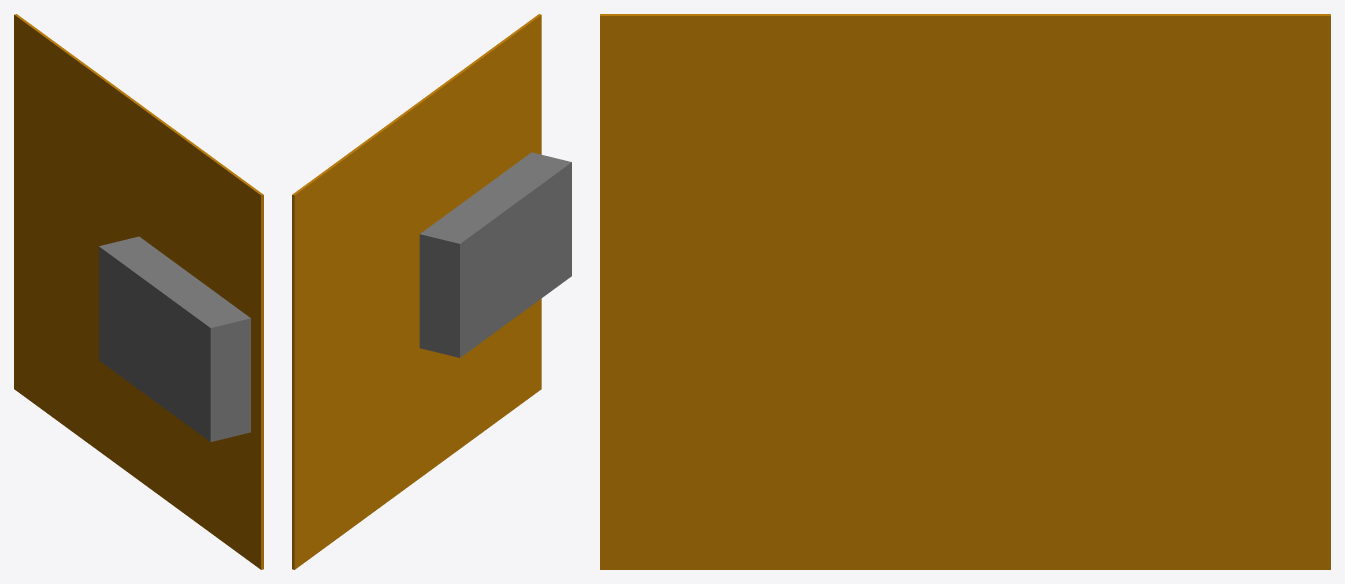
The model's file is DRC-TESTBED-LEVER-BODYSET9_link_mesh.dae.
The picture shows the model from 3 angles, left to right: view 1: azimuth 30°, elevation 25°; view 2: azimuth 150°, elevation 25°; view 3: azimuth 270°, elevation 25°; orthographic projection. The views are drawn at different scales.
Parts seen in each view (by area): view 1: DRC-TESTBED-LEVER-BODYSET9_link (×2); view 2: DRC-TESTBED-LEVER-BODYSET9_link (×2); view 3: DRC-TESTBED-LEVER-BODYSET9_link.
Boxes of the visible parts, x1=… form: DRC-TESTBED-LEVER-BODYSET9_link (×2): x1=14, y1=14, x2=263, y2=569; DRC-TESTBED-LEVER-BODYSET9_link (×2): x1=292, y1=14, x2=571, y2=569; DRC-TESTBED-LEVER-BODYSET9_link: x1=600, y1=14, x2=1330, y2=569.
Size of the model in its own units: 0.16 by 1.33 by 1.59.
